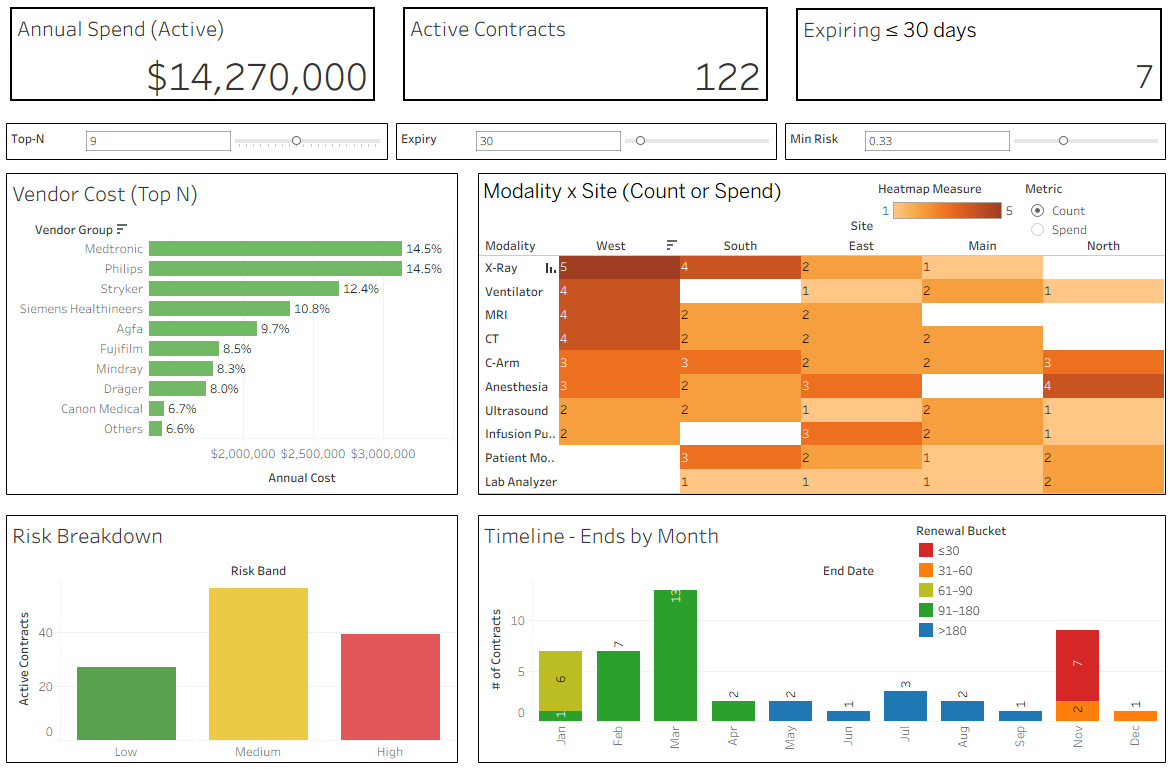

Layout of this report page (visuals, bound fields, positions):
{"tool":"tableau","page":{"name":"Dashboard 1","canvas":[1200,800],"ordinal":0},"visuals":[{"type":"worksheet","title":"KPI - Annual Spend","mark":"Text","box":[16,16,381,110]},{"type":"worksheet","title":"KPI - Active Contracts","mark":"Text","box":[409,16,381,110]},{"type":"worksheet","title":"KPI - Expiring ≤ N Days","mark":"Text","box":[802,17,382,109]},{"type":"parameter","param":"[Parameters].[Parameter 2]","box":[16,136,390,45]},{"type":"parameter","param":"[Parameters].[Parameter 1]","box":[406,136,389,45]},{"type":"parameter","param":"[Parameters].[Parameter 3]","box":[795,136,389,45]},{"type":"worksheet","title":"Bar - Vendor Cost (Top N)","mark":"Automatic","rows":["Calculation_1031887265456091161"],"cols":["annual_cost"],"box":[16,186,460,330]},{"type":"worksheet","title":"Heatmap - Modality x Site","mark":"Square","rows":["modality"],"cols":["site"],"box":[488,186,696,330]},{"type":"legend","title":"Heatmap - Modality x Site","param":"[federated.07omd18113q7zj111xrbq15m15u0].[sum:Calculation_1031887265450336276:qk","box":[892,197,140,76]},{"type":"parameter","param":"[Parameters].[Parameter 4]","box":[1039,197,160,67]},{"type":"worksheet","title":"Risk Breakdown","mark":"Bar","rows":["Calculation_1031887265402822663"],"cols":["Calculation_1031887265400360964"],"box":[16,528,460,256]},{"type":"worksheet","title":"Timeline - Ends by Month","mark":"Bar","rows":["contract_id"],"cols":["end_date"],"box":[488,528,696,256]},{"type":"legend","title":"Timeline - Ends by Month","param":"[federated.07omd18113q7zj111xrbq15m15u0].[none:Calculation_1031887265400430597:n","box":[930,539,140,118]}]}

Visuals, with their boxes in screenshot pixels (x1, y1, x2, y2), scaled from the page's 1200x800 canvas onto the 1172x769 screenshot:
"KPI - Annual Spend" worksheet (Text marks): {"x1": 16, "y1": 15, "x2": 388, "y2": 121}
"KPI - Active Contracts" worksheet (Text marks): {"x1": 399, "y1": 15, "x2": 772, "y2": 121}
"KPI - Expiring ≤ N Days" worksheet (Text marks): {"x1": 783, "y1": 16, "x2": 1156, "y2": 121}
parameter: {"x1": 16, "y1": 131, "x2": 397, "y2": 174}
parameter: {"x1": 397, "y1": 131, "x2": 776, "y2": 174}
parameter: {"x1": 776, "y1": 131, "x2": 1156, "y2": 174}
"Bar - Vendor Cost (Top N)" worksheet: {"x1": 16, "y1": 179, "x2": 465, "y2": 496}
"Heatmap - Modality x Site" worksheet (Square marks): {"x1": 477, "y1": 179, "x2": 1156, "y2": 496}
"Heatmap - Modality x Site" legend: {"x1": 871, "y1": 189, "x2": 1008, "y2": 262}
parameter: {"x1": 1015, "y1": 189, "x2": 1171, "y2": 254}
"Risk Breakdown" worksheet (Bar marks): {"x1": 16, "y1": 508, "x2": 465, "y2": 754}
"Timeline - Ends by Month" worksheet (Bar marks): {"x1": 477, "y1": 508, "x2": 1156, "y2": 754}
"Timeline - Ends by Month" legend: {"x1": 908, "y1": 518, "x2": 1045, "y2": 632}
